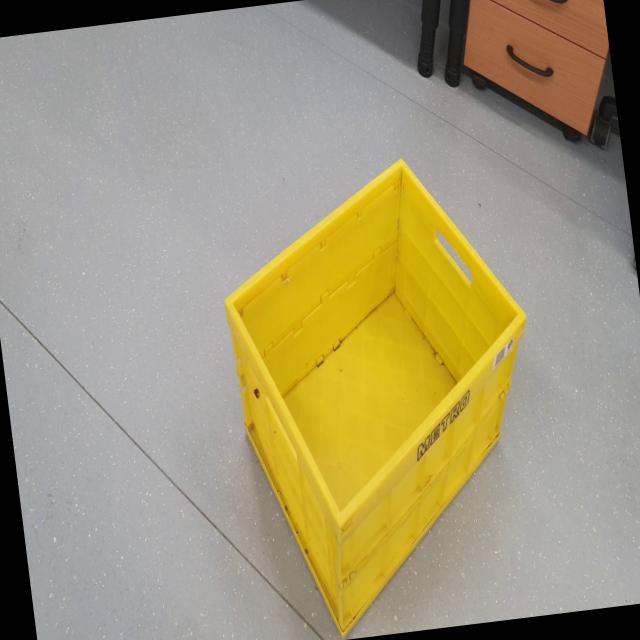box: (201, 134, 568, 640)
